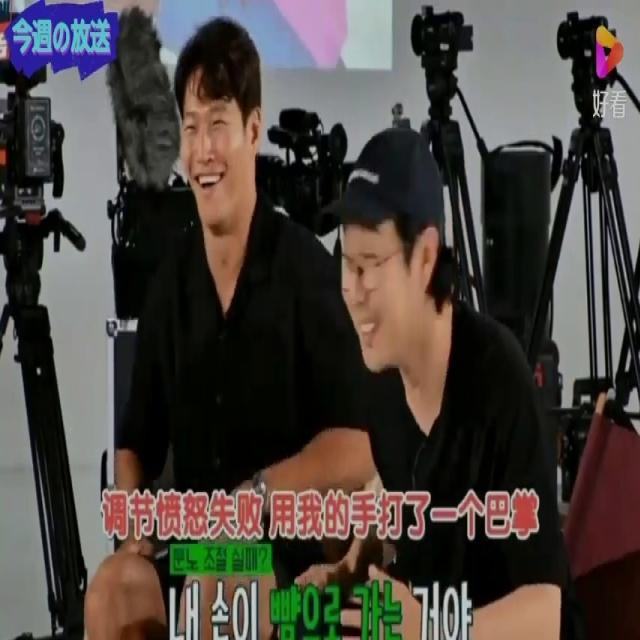non-fight: (95, 10, 369, 640), (290, 126, 569, 640)
